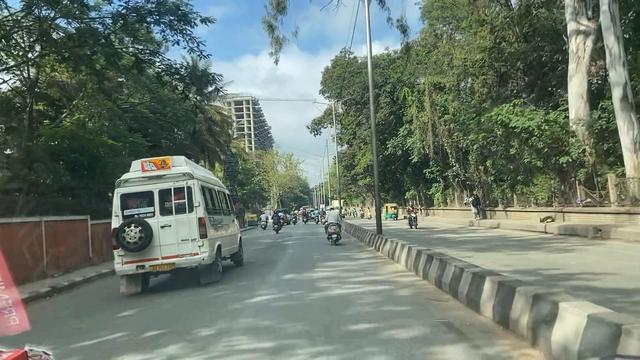HMV: (111, 182, 207, 281)
LMV: (319, 203, 343, 245), (271, 206, 283, 236)
